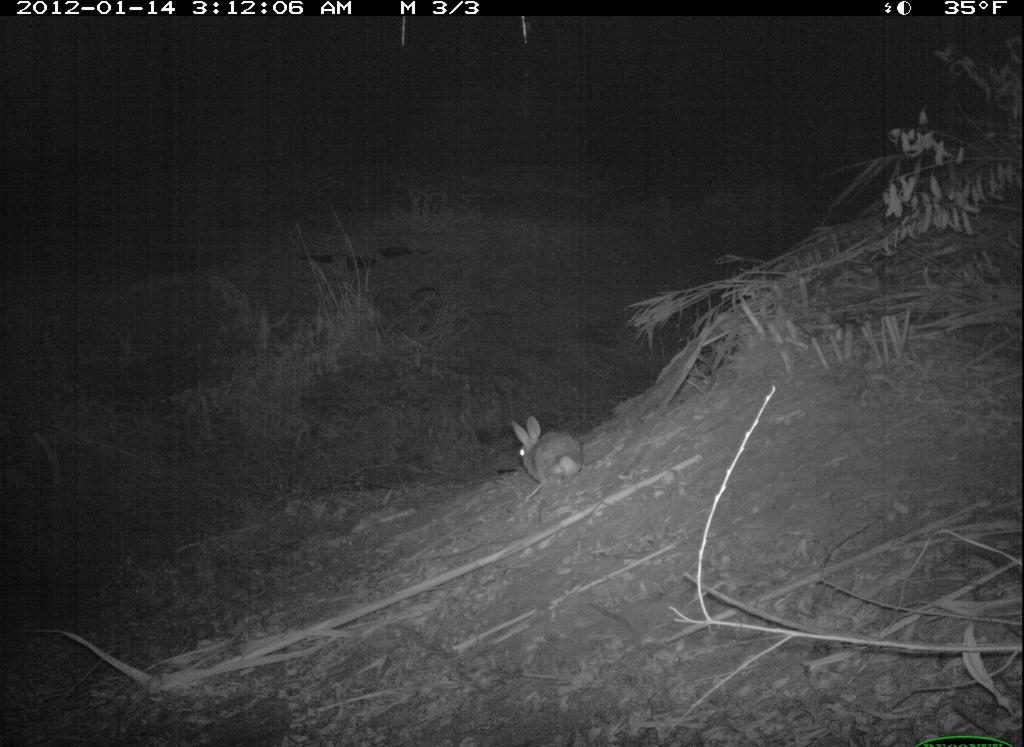rabbit: (500, 411, 593, 487)
